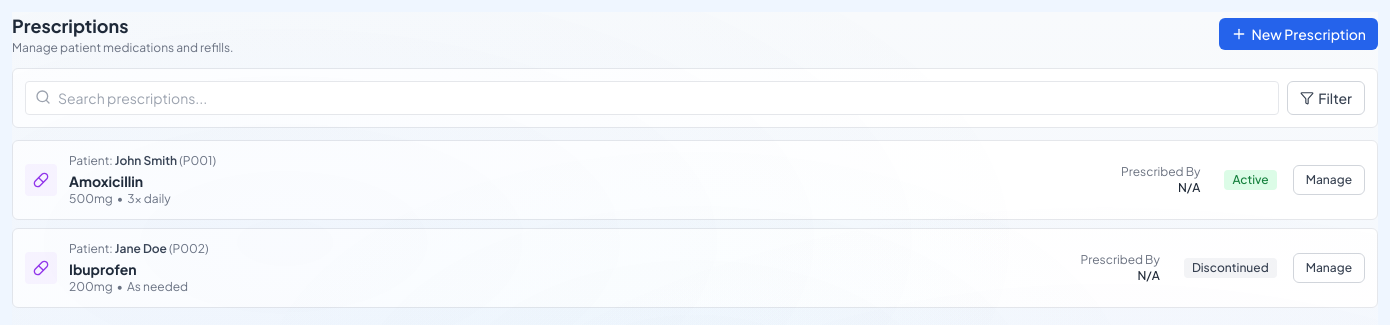
Test: Prescriptions Page › filters prescriptions by search
Expected: the heading "Amoxicillin" is shown, [69, 172, 143, 190]
Type "Amoxicillin" into the field with placeholder "Search prescriptions..." at (652, 98), box [25, 81, 1279, 115]
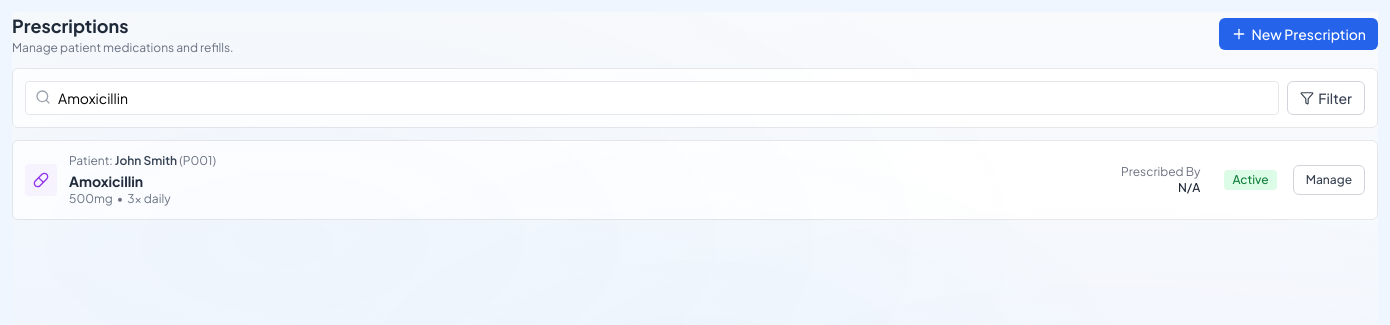
Expected: the heading "Amoxicillin" is shown, [69, 172, 143, 190]
Now the heading "Ibuprofen" is gone
